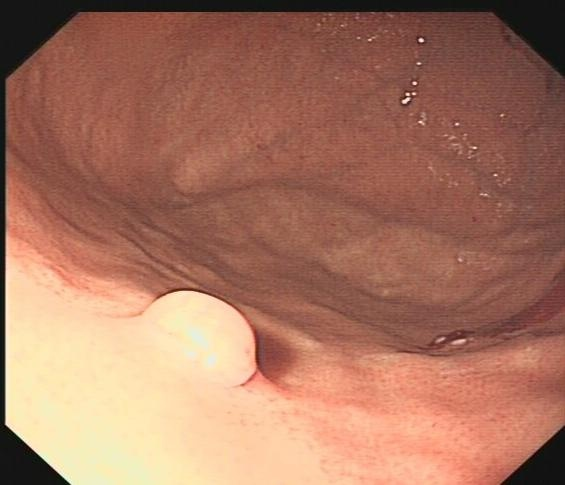Polyp: (132, 285, 269, 390)
